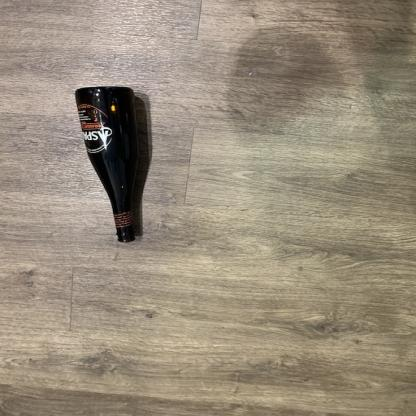trash: (72, 87, 141, 247)
